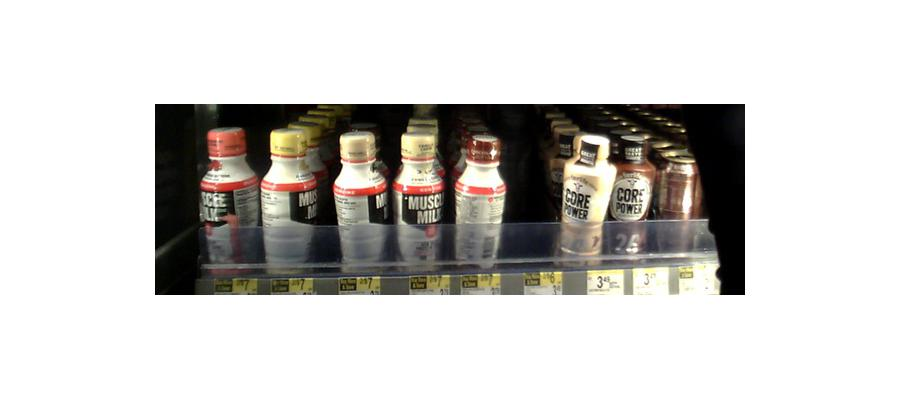bottle: (261, 127, 329, 268), (200, 125, 260, 272), (333, 132, 390, 271), (391, 129, 446, 267), (451, 133, 505, 270), (557, 133, 612, 261), (653, 143, 706, 258), (609, 136, 652, 268)
